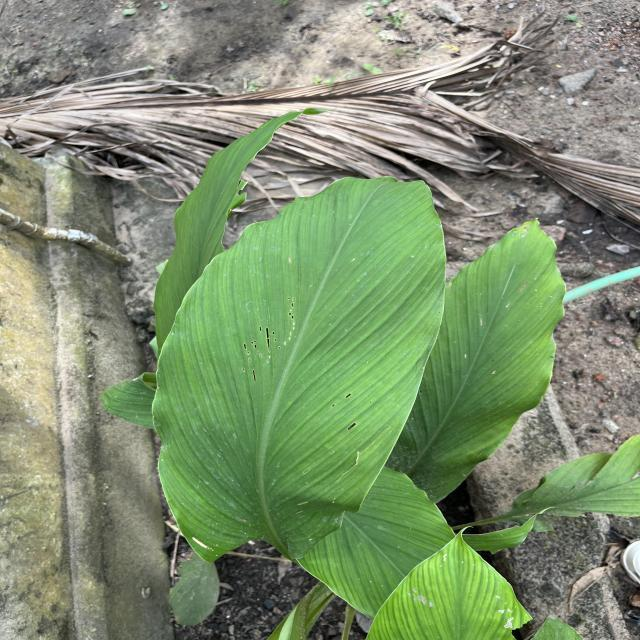Curcuma longa: (150, 171, 452, 568), (379, 210, 570, 506)
